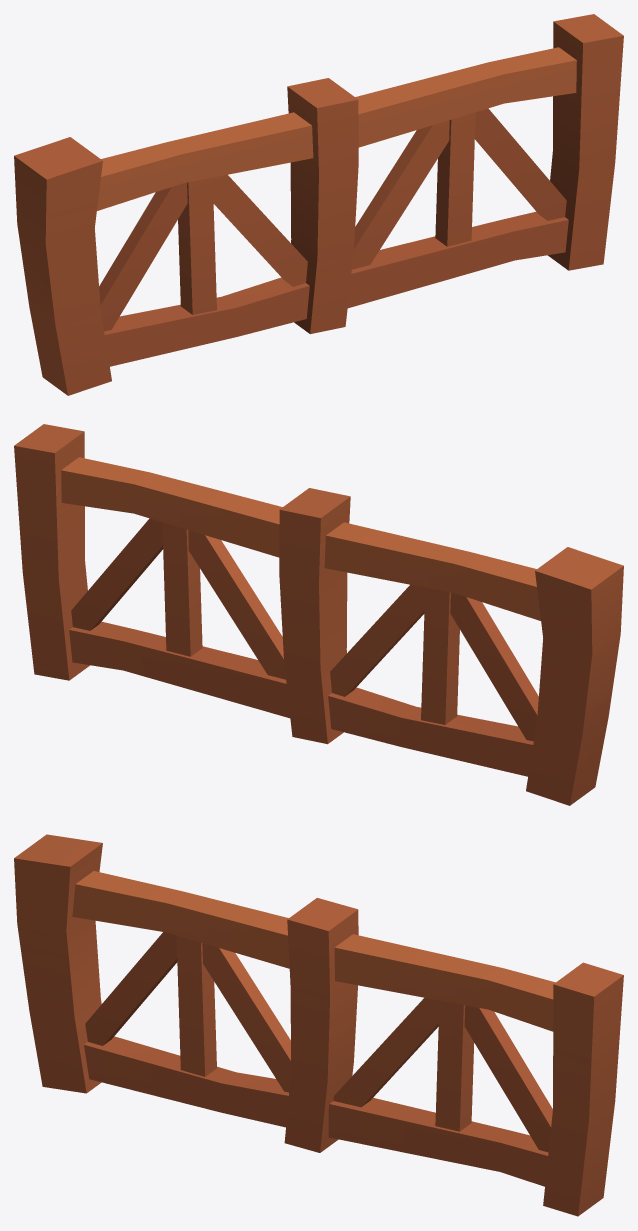
File: SM_Fence_2.fbx
3 renders of one model, top to bottom at view 1: azimuth 30°, elevation 25°; view 2: azimuth 150°, elevation 25°; view 3: azimuth 330°, elevation 25°, orthographic.
Parts seen in each view (by area): view 1: SM_Fence_3; view 2: SM_Fence_3; view 3: SM_Fence_3.
Part boxes in pixels (x1,y1,x2,y2): SM_Fence_3: [14, 14, 623, 395]; SM_Fence_3: [14, 424, 623, 805]; SM_Fence_3: [14, 834, 623, 1216].
Size of the model in its own units: 234 by 89.06 by 22.91.
